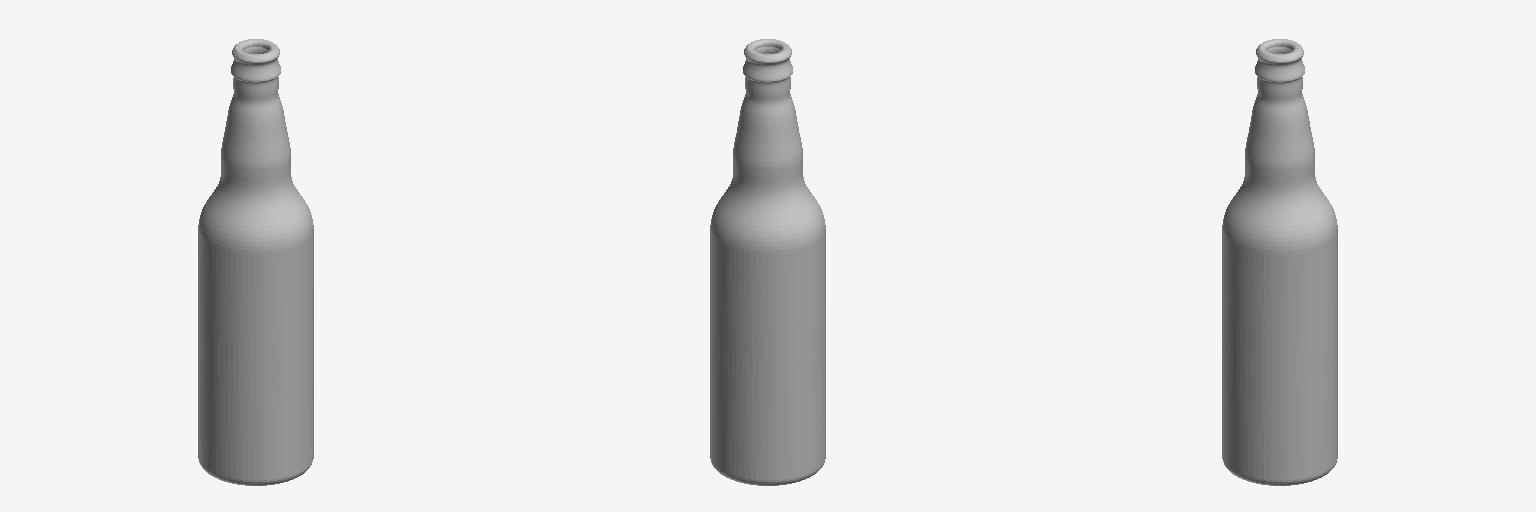
The model's file is glass botte v2.obj.
The picture shows the model from 3 angles: view 1: azimuth 30°, elevation 25°; view 2: azimuth 150°, elevation 25°; view 3: azimuth 270°, elevation 25°; orthographic projection.
Parts seen in each view (by area): view 1: Body1; view 2: Body1; view 3: Body1.
Boxes of the visible parts, box(x1,y1,x2,y2) form: Body1: box(198, 39, 313, 485); Body1: box(710, 39, 825, 485); Body1: box(1222, 39, 1337, 485).
Size of the model in its own units: 59.98 by 239 by 60.